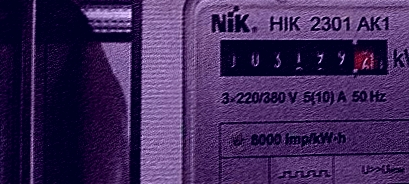0: (249, 48, 260, 67), (226, 49, 235, 67)
1: (293, 46, 302, 64)
3: (271, 48, 281, 69)
6: (359, 55, 369, 69)
9: (314, 45, 324, 65), (336, 47, 346, 65)
screen: (212, 28, 395, 84)
